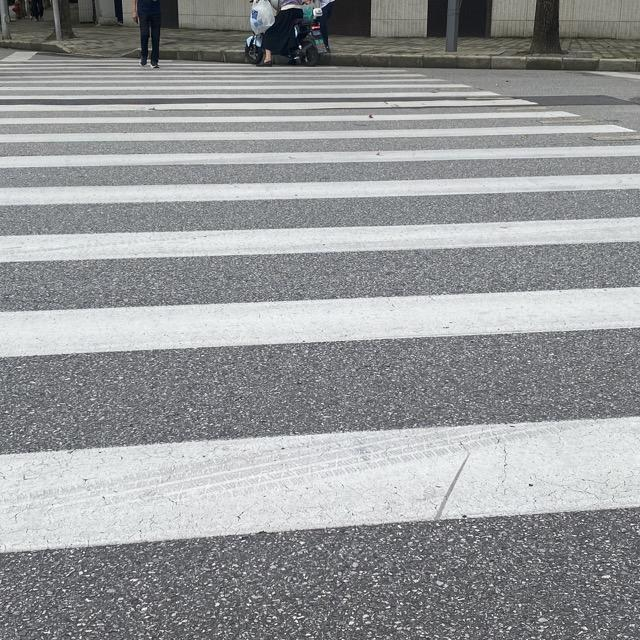curb: (316, 53, 639, 72), (161, 50, 250, 61), (0, 41, 71, 53), (120, 49, 139, 58)
